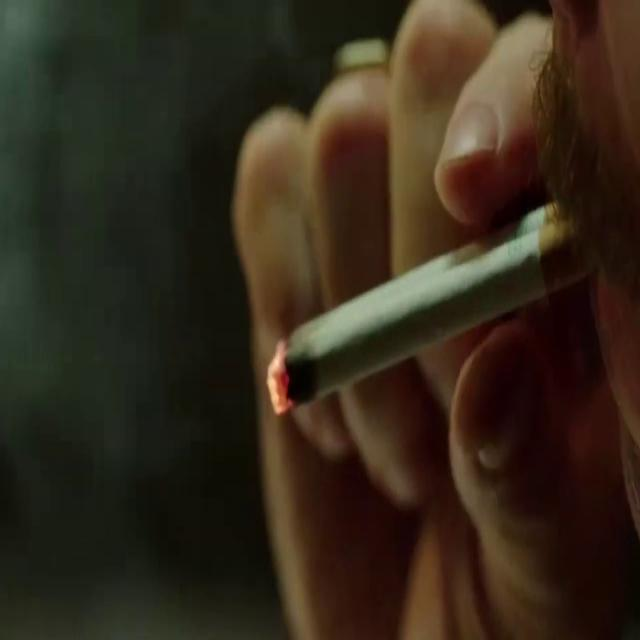Smooking: (246, 150, 590, 446)
